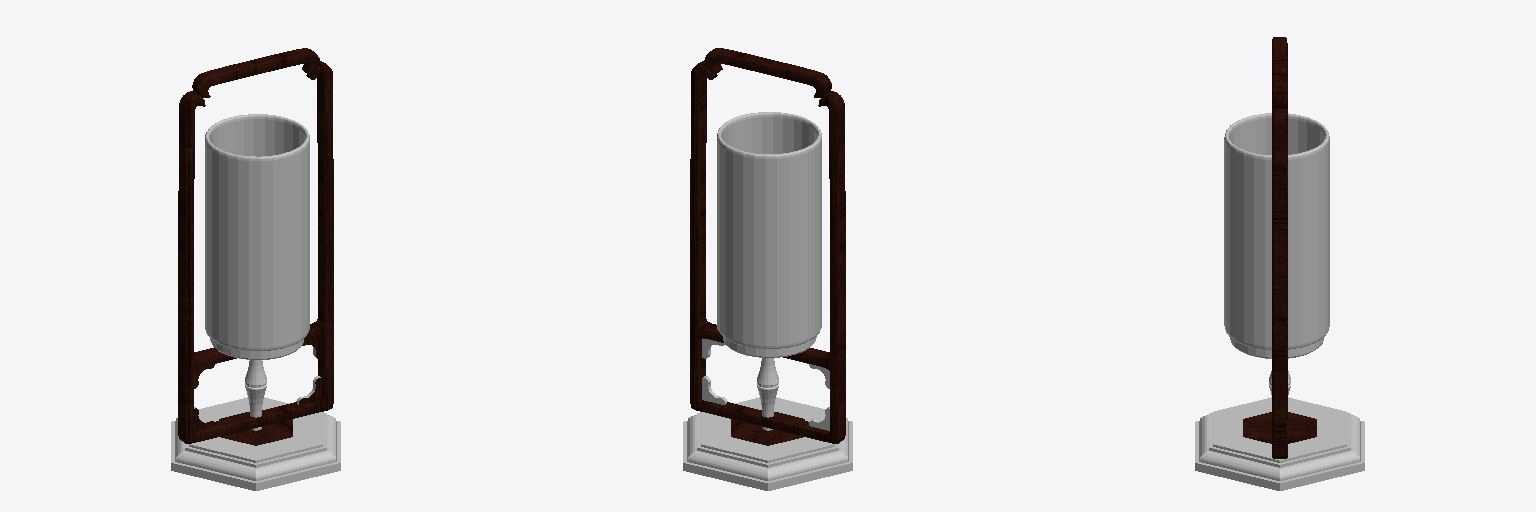
3 renders of one model, left to right at view 1: azimuth 30°, elevation 25°; view 2: azimuth 150°, elevation 25°; view 3: azimuth 270°, elevation 25°, orthographic.
Parts seen in each view (by area): view 1: Plane04, Circle01; view 2: Plane04, Circle01; view 3: Circle01, Plane04.
Part boxes in pixels (x1,y1,x2,y2): Plane04: (171,48,340,490); Circle01: (205,114,309,350); Plane04: (683,48,852,490); Circle01: (717,112,821,348); Circle01: (1224,113,1329,349); Plane04: (1195,37,1364,490).
Bounding box in the file's own units: 2.07 × 4.55 × 1.79.
2 materials, 1 textured.